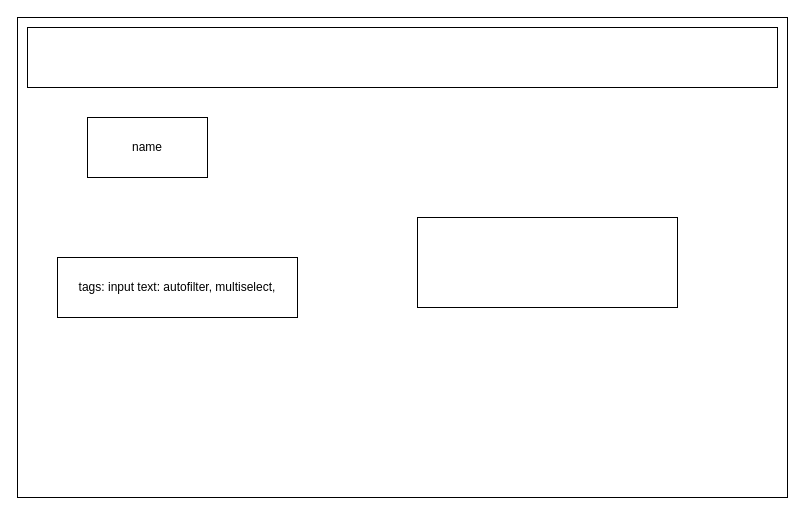
Image size: 805x515. Some labels were removed from this diagram. The centre of each missing label's shape, as x and y in pixels:
"directions" belongs at (x=547, y=262).
"some sorta title-ish thing" belongs at (x=402, y=57).
